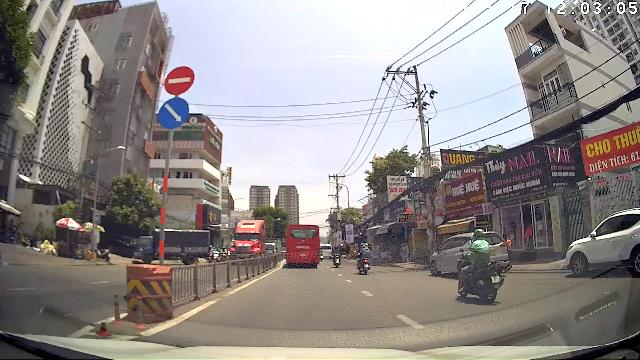102-cam-di-nguoc-chieu: (164, 66, 196, 94)
302a-huong-phai-di-vong-chuong-ngai-vat-1: (158, 97, 190, 129)
